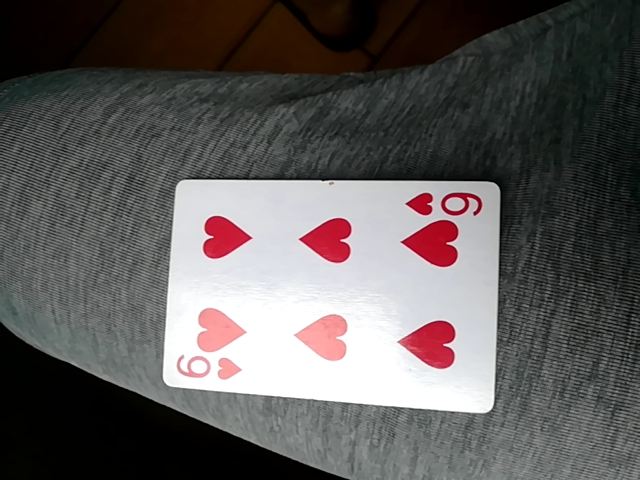hx 6: (160, 178, 507, 417)
